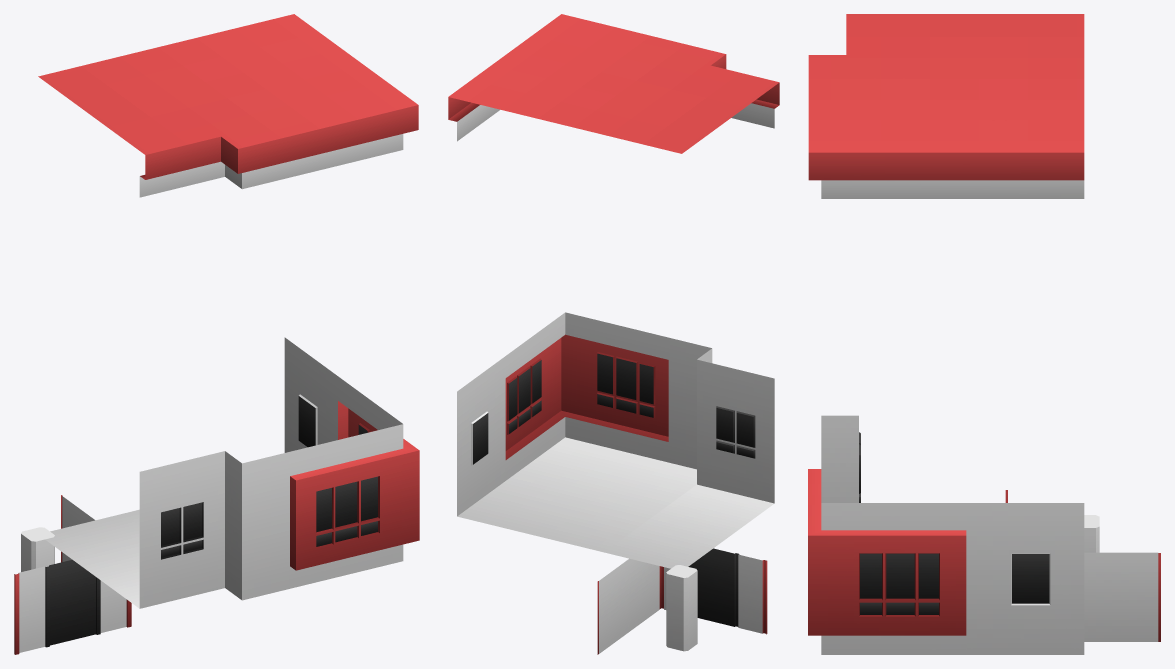
The model's file is buildingRed.fbx.
3 views of the same model, side by side, from view 1: azimuth 30°, elevation 25°; view 2: azimuth 150°, elevation 25°; view 3: azimuth 270°, elevation 25° (orthographic). The views are drawn at different scales.
Visible parts, largest first — view 1: buildingTop, roomWall, middleWindowWall, doorWall, corridorWall, roomSideWall1, buildingPillar, doorsideWall; view 2: roomWall, buildingTop, middleWindowWall, roomSideWall1, corridorWall, doorWall, doorsideWall, buildingPillar; view 3: buildingTop, roomSideWall1, corridorWall, doorsideWall, middleWindowWall, roomWall, buildingPillar.
Part boxes in pixels (x1,y1,x2,y2): buildingTop: (38, 14, 418, 197); roomWall: (123, 424, 419, 600); middleWindowWall: (45, 451, 241, 608); doorWall: (14, 559, 131, 654); corridorWall: (284, 337, 337, 452); roomSideWall1: (338, 376, 418, 450); buildingPillar: (21, 527, 54, 571); doorsideWall: (61, 495, 94, 562); roomWall: (457, 312, 711, 552); buildingTop: (448, 14, 779, 153); middleWindowWall: (604, 348, 774, 568); roomSideWall1: (505, 312, 565, 480); corridorWall: (457, 356, 505, 516); doorWall: (660, 548, 767, 634); doorsideWall: (597, 558, 660, 654); buildingPillar: (666, 565, 697, 651); buildingTop: (808, 14, 1084, 198); roomSideWall1: (808, 503, 966, 654); corridorWall: (966, 503, 1084, 654); doorsideWall: (1084, 552, 1160, 641); middleWindowWall: (821, 415, 860, 502); roomWall: (808, 469, 821, 535); buildingPillar: (1084, 515, 1099, 552).
Size of the model in its own units: 922 by 1506 by 807.
1 material, 1 textured.
